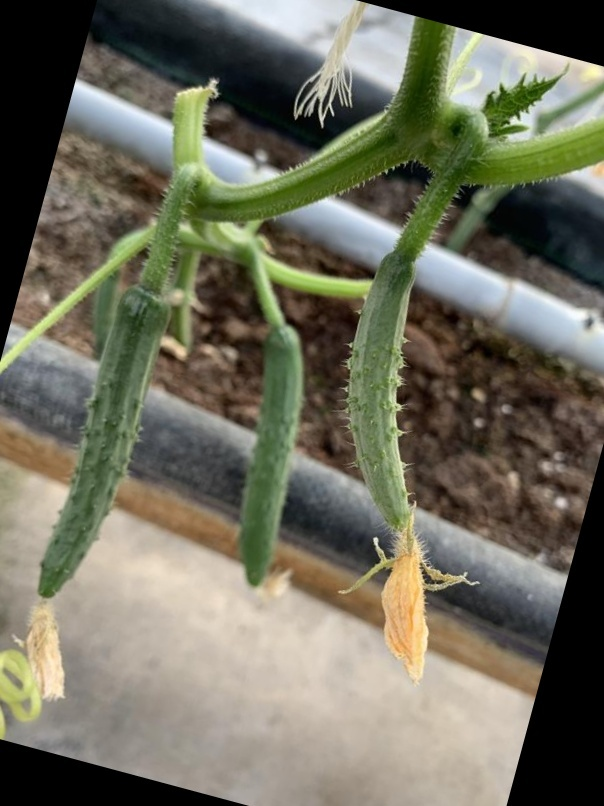bear: (320, 244, 459, 683)
growth: (25, 283, 172, 613), (228, 323, 314, 600)
mature: (227, 325, 313, 602)
